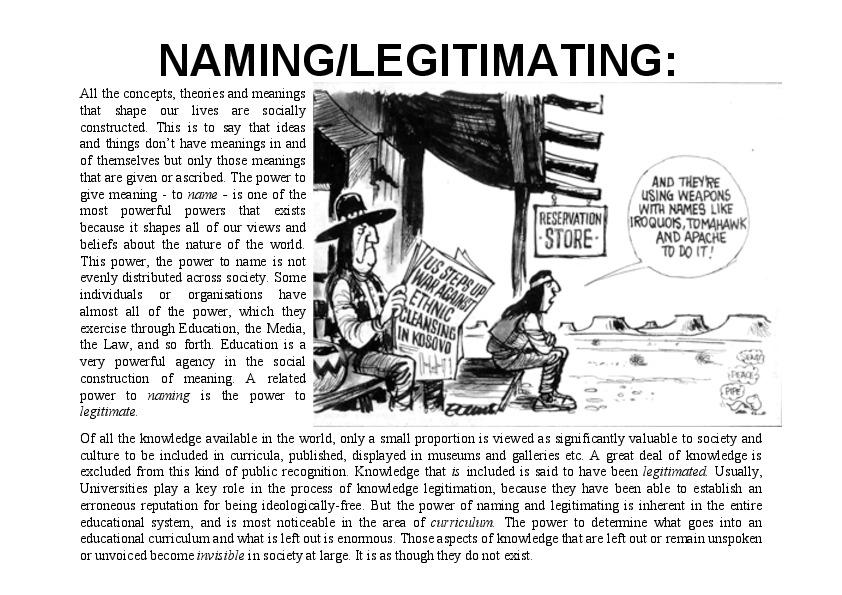paragraph: (70, 424, 792, 577), (74, 83, 310, 422)
title: (152, 35, 689, 85)
